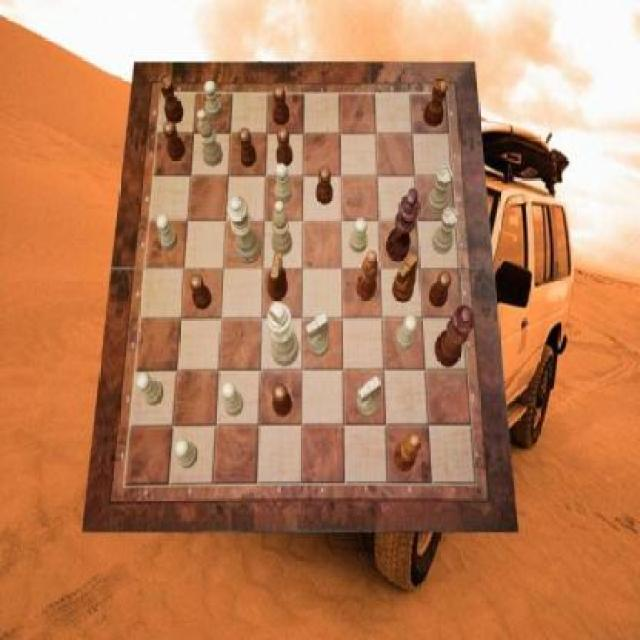bishop: (355, 251, 378, 300), (392, 434, 420, 472)
black-bishop: (386, 189, 420, 262)
black-king: (394, 254, 418, 303), (268, 254, 288, 301)
black-knight: (165, 122, 187, 160), (189, 274, 212, 310), (430, 272, 452, 308), (272, 383, 292, 417), (239, 128, 256, 168), (277, 128, 294, 168), (274, 86, 291, 126), (317, 166, 334, 205)
black-pawn: (436, 305, 476, 367)
black-queen: (160, 74, 185, 124), (425, 77, 449, 128)
black-rook: (197, 109, 223, 167), (272, 200, 293, 256)
white-bishop: (268, 301, 300, 367)
white-king: (306, 314, 329, 358), (358, 377, 382, 418)
white-knight: (137, 374, 164, 408), (395, 316, 418, 352), (221, 382, 244, 416), (157, 214, 178, 251), (204, 80, 223, 120), (176, 438, 198, 469), (274, 164, 291, 204), (351, 219, 368, 253)
white-pawn: (228, 197, 263, 265)
white-queen: (432, 208, 458, 254), (428, 166, 452, 214)
